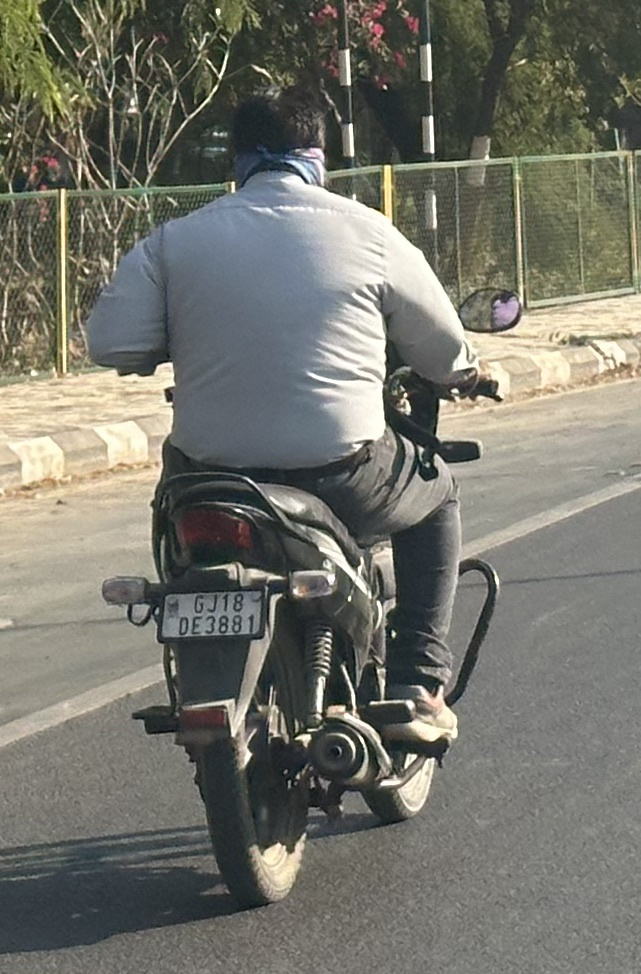BikeWithRider: (68, 68, 533, 920)
NoHelmet: (211, 72, 355, 201)
